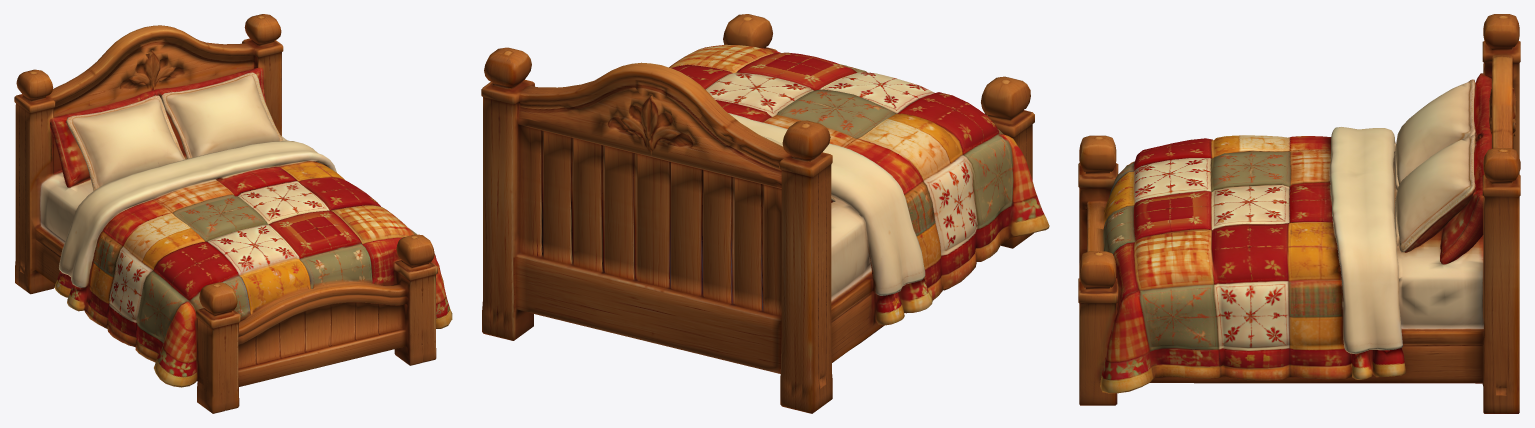
File: bed.glb
The picture shows the model from 3 angles, left to right: view 1: azimuth 30°, elevation 25°; view 2: azimuth 150°, elevation 25°; view 3: azimuth 270°, elevation 25°; orthographic projection. The views are drawn at different scales.
Visible parts, largest first — view 1: tripo_node_72e2cb1a-a5bd-4f82-af0f-8dbf8d136c2d; view 2: tripo_node_72e2cb1a-a5bd-4f82-af0f-8dbf8d136c2d; view 3: tripo_node_72e2cb1a-a5bd-4f82-af0f-8dbf8d136c2d.
Boxes of the visible parts, x1,y1,x2,y2 form: tripo_node_72e2cb1a-a5bd-4f82-af0f-8dbf8d136c2d: (14, 14, 452, 413); tripo_node_72e2cb1a-a5bd-4f82-af0f-8dbf8d136c2d: (481, 14, 1049, 413); tripo_node_72e2cb1a-a5bd-4f82-af0f-8dbf8d136c2d: (1078, 14, 1520, 413).
Bounding box in the file's own units: 0.8827 × 0.6721 × 0.9784.
Materials: 1 (1 with a texture image).
